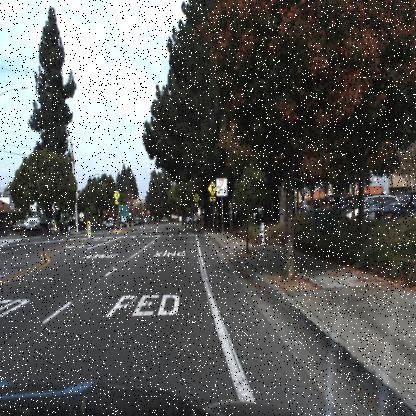car: (344, 193, 397, 224), (337, 195, 364, 226)
truck: (24, 201, 42, 231)
